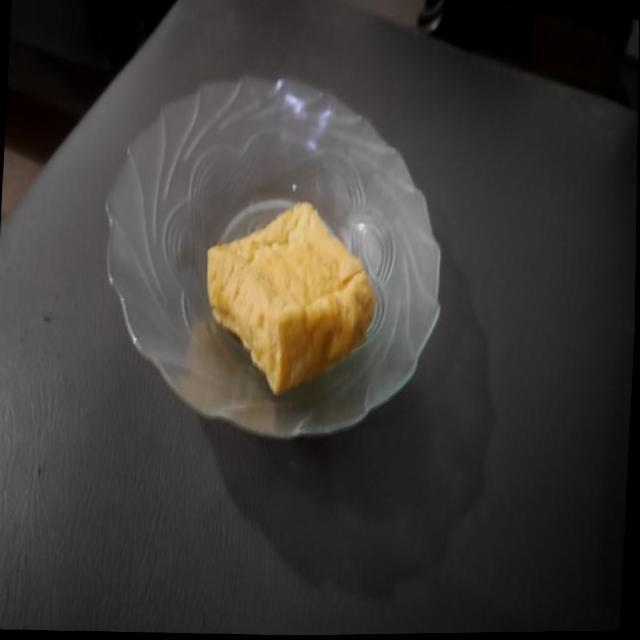tahu_goreng: (206, 202, 374, 394)
